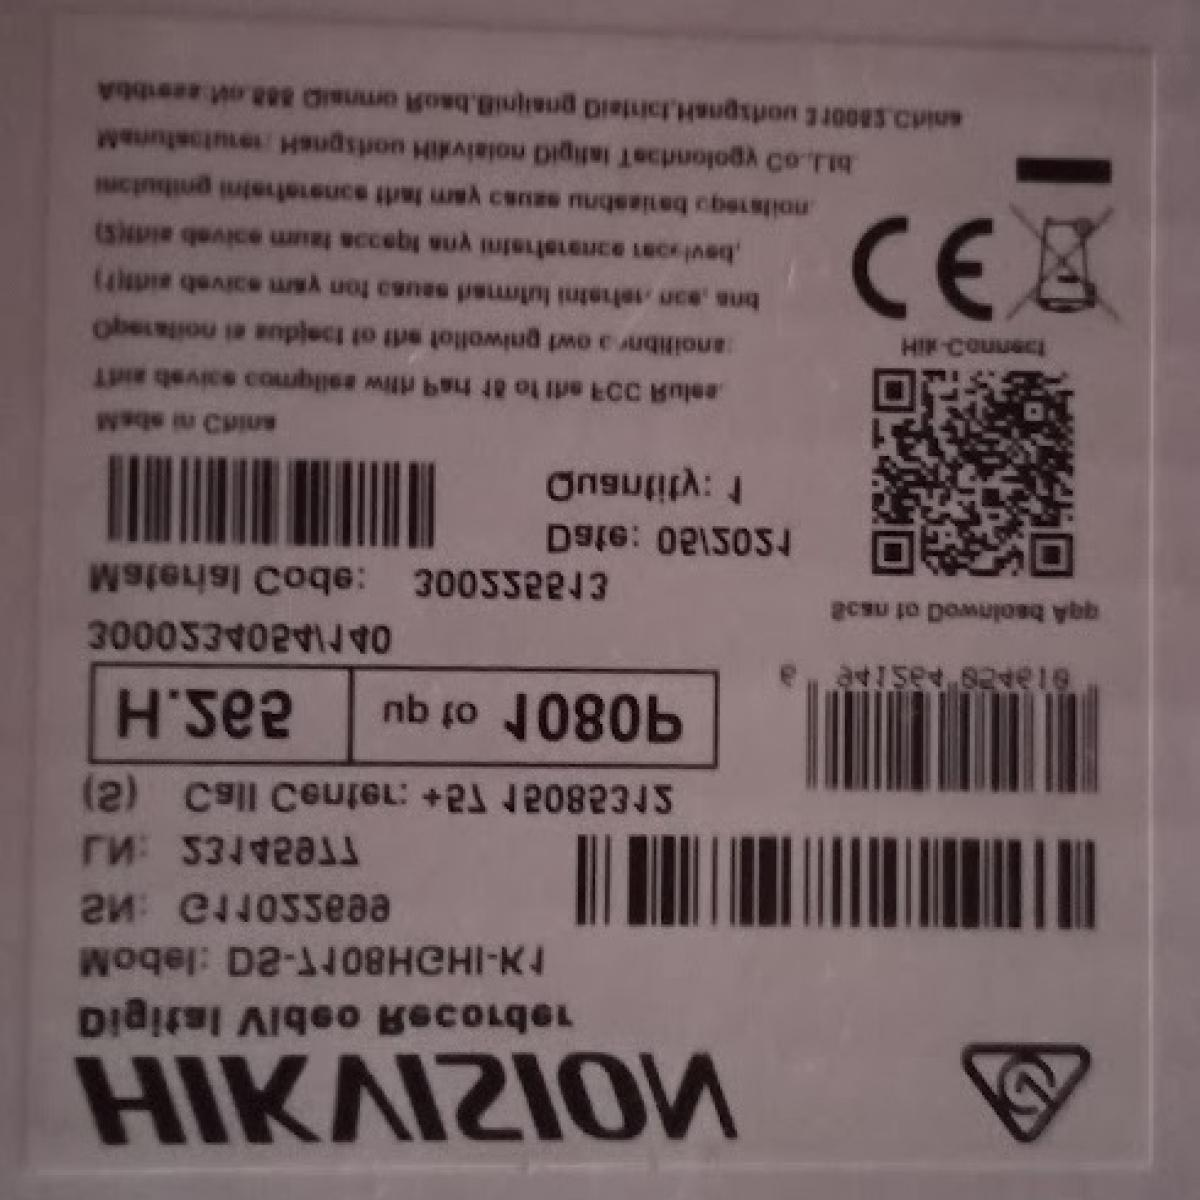Barcode: (564, 815, 1120, 953)
Label: (36, 23, 1151, 1165)
